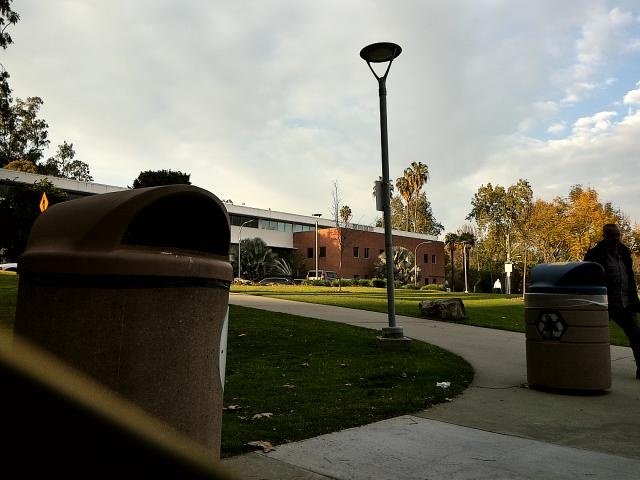trashcan: (13, 178, 261, 476), (511, 251, 624, 407)
